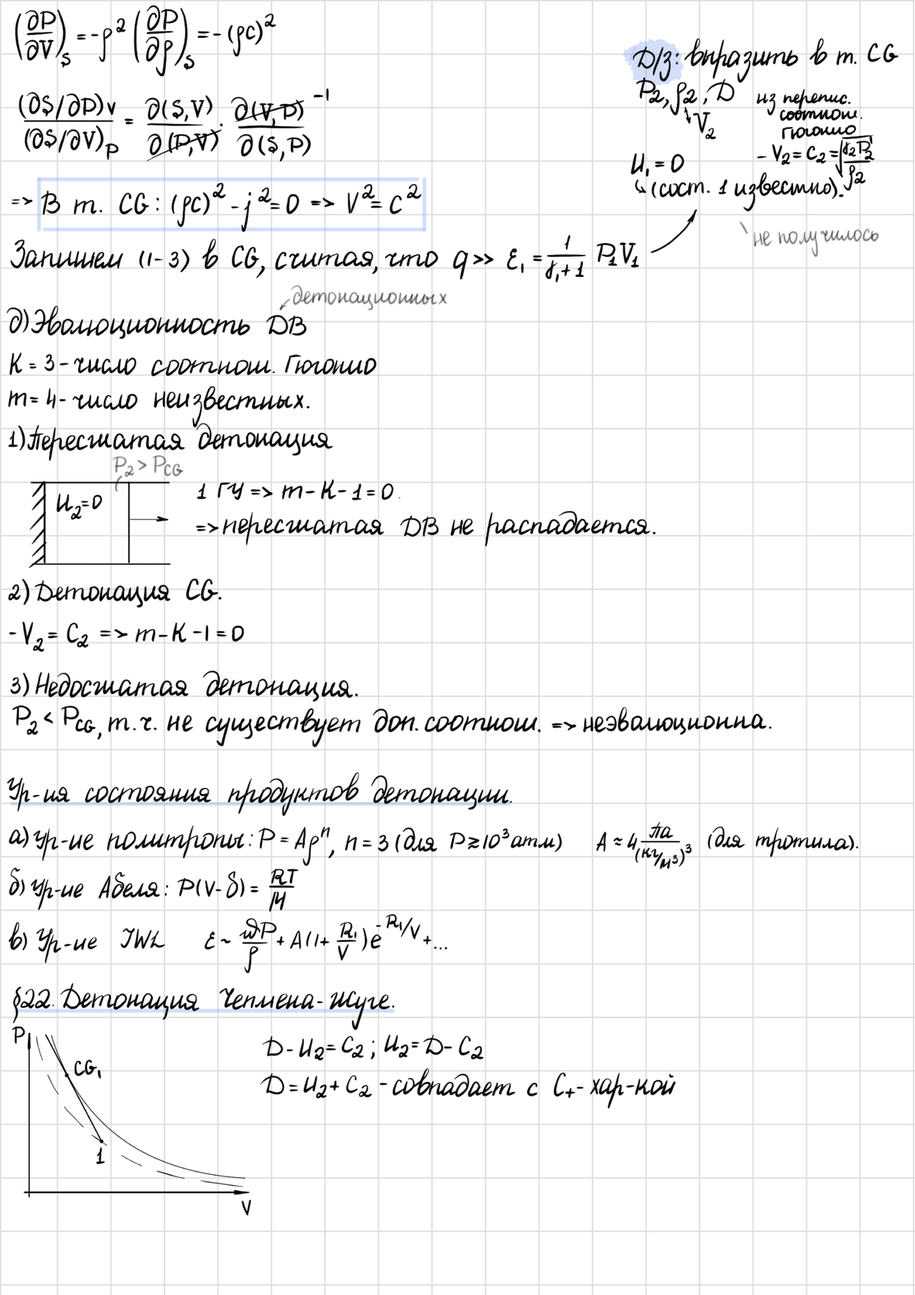formula: (14, 87, 337, 157), (12, 0, 284, 72), (171, 165, 431, 235), (185, 915, 446, 965), (445, 223, 643, 285), (626, 81, 742, 142), (105, 613, 255, 654), (180, 860, 300, 910), (593, 813, 693, 873), (753, 139, 885, 177), (281, 472, 399, 508), (260, 1067, 369, 1105), (258, 817, 339, 866), (2, 613, 104, 651), (260, 1029, 377, 1060), (7, 705, 97, 739), (385, 1031, 488, 1056), (629, 147, 694, 175), (347, 827, 392, 859)
picture: (7, 1027, 258, 1219), (5, 459, 193, 575)
text: (97, 705, 779, 743), (6, 772, 527, 815), (9, 977, 406, 1027), (3, 238, 436, 275), (615, 27, 908, 77), (3, 299, 307, 346), (196, 513, 660, 541), (5, 417, 334, 456), (6, 666, 367, 701), (2, 349, 382, 379), (378, 1068, 684, 1105), (11, 172, 161, 238), (2, 386, 312, 417), (6, 821, 254, 857), (8, 864, 176, 909), (391, 822, 570, 864), (7, 917, 170, 963), (706, 824, 865, 860), (5, 578, 224, 604), (651, 177, 839, 203), (748, 224, 892, 257), (289, 284, 447, 308), (755, 84, 853, 108), (199, 475, 273, 506), (771, 109, 863, 121), (778, 126, 859, 135)
